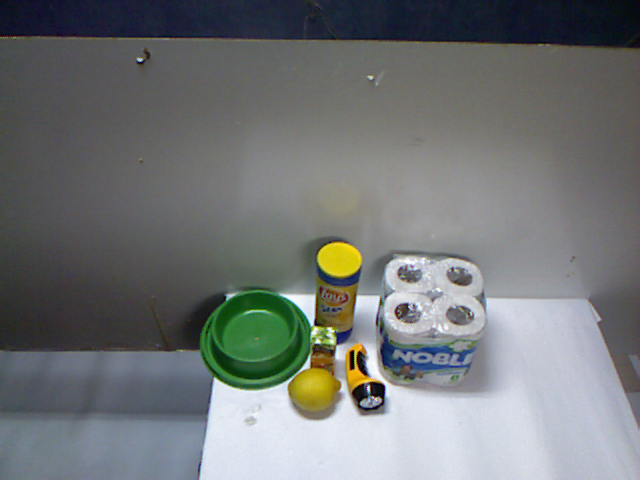colador: (343, 282, 498, 417)
esponja: (299, 354, 348, 416)
estuche: (207, 339, 293, 420)
harina: (284, 265, 349, 347)
ketchup: (234, 275, 280, 337)
